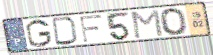5: (104, 11, 132, 41)
D: (51, 17, 80, 47)
F: (79, 14, 104, 44)
G: (25, 18, 54, 48)
M: (131, 8, 165, 40)
O: (158, 7, 190, 37)
